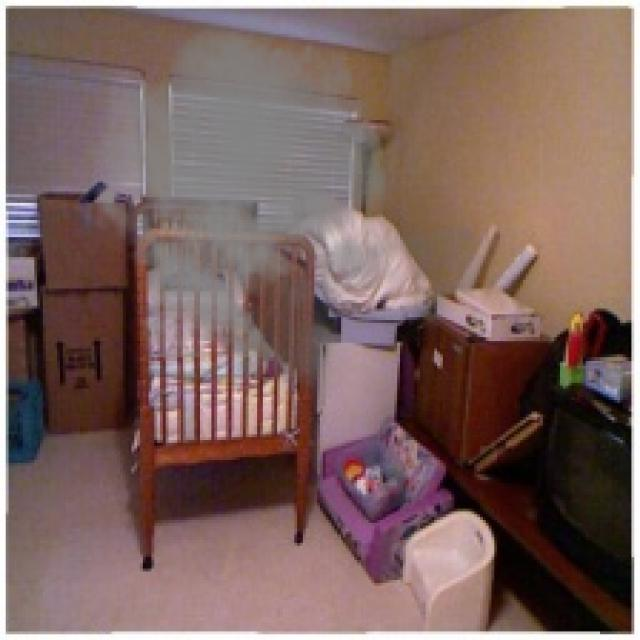smoke: (83, 0, 494, 406)
